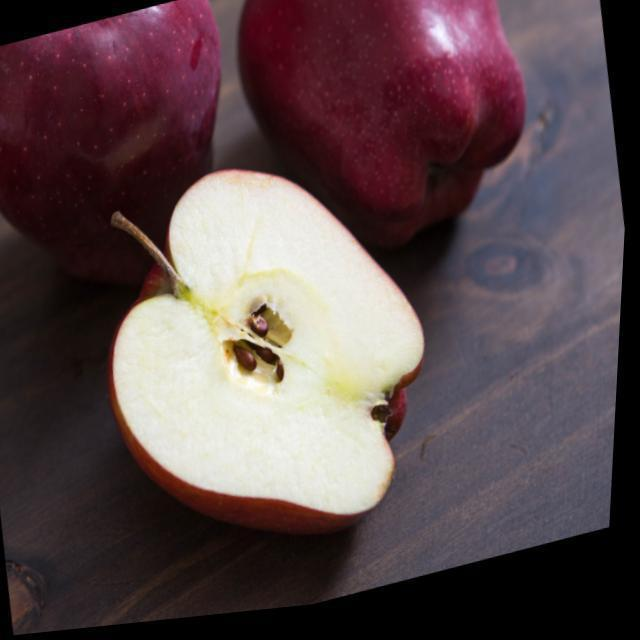Apple: (102, 172, 420, 524), (236, 0, 530, 236), (0, 0, 224, 280)
